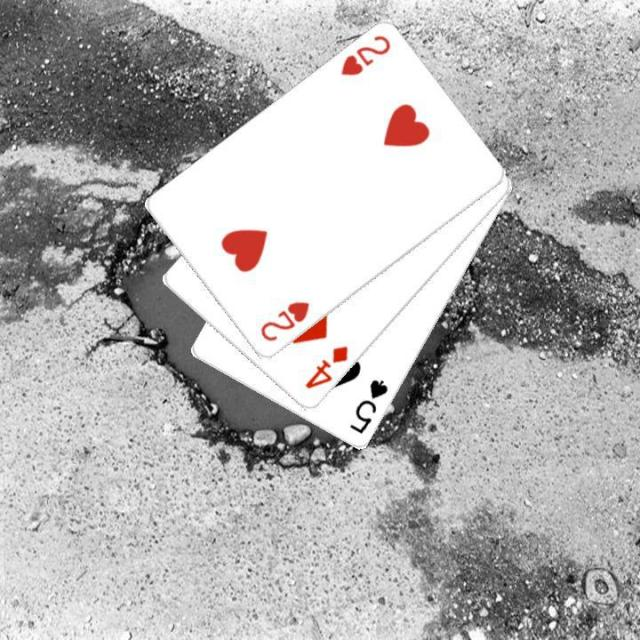2H: (336, 31, 393, 79), (256, 298, 311, 344)
4D: (300, 342, 350, 392)
5S: (346, 376, 390, 436)
